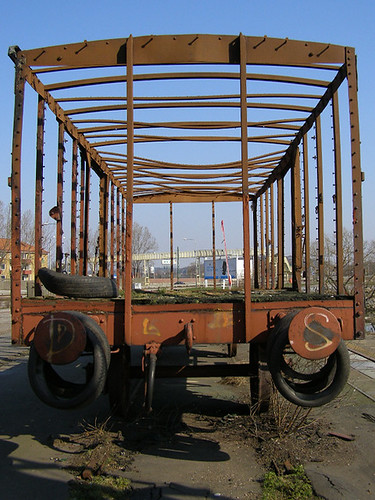sky: (1, 1, 367, 45)
truck: (7, 37, 366, 429)
